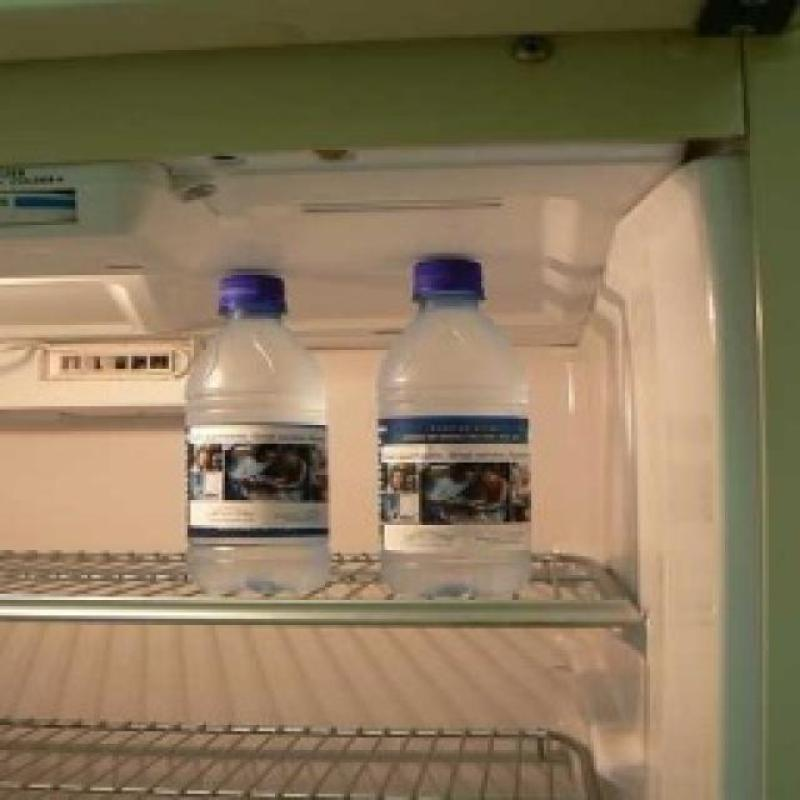botella: (360, 250, 542, 606), (183, 256, 336, 610)
